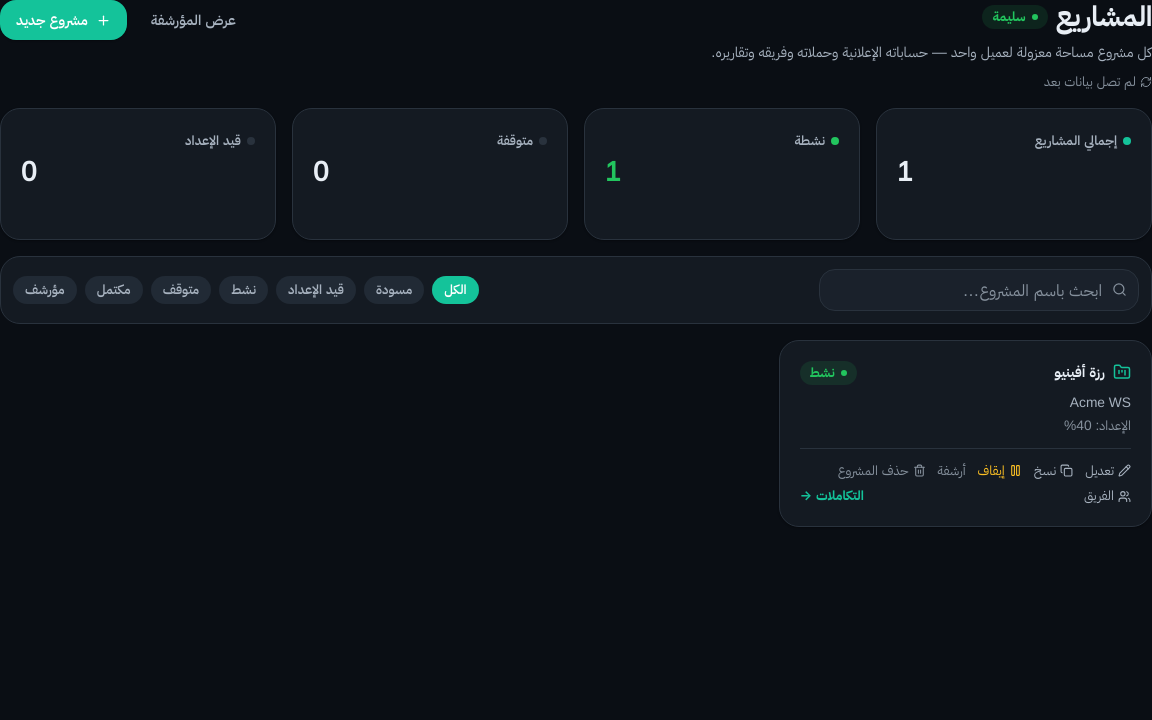
Test: deleting a project › promises that the advertising account and the authorisation survive
Click the button with test id "project-delete-p1": (882, 471) left=838, top=461, right=926, bottom=480
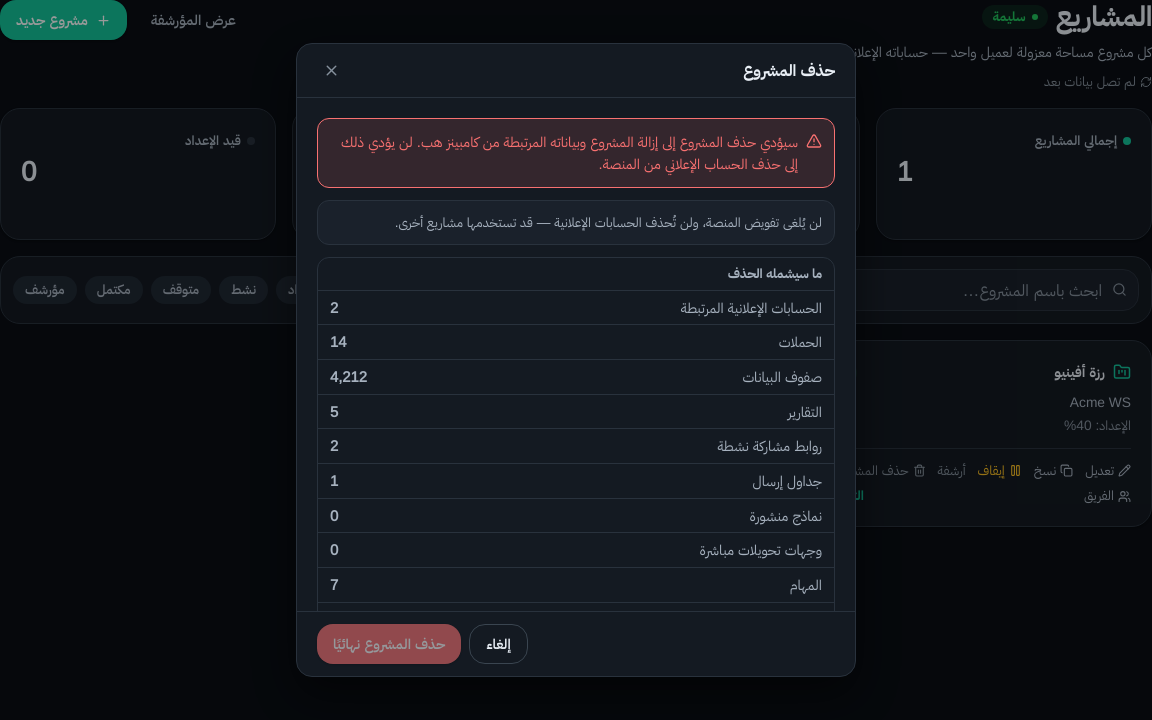
Now the text with test id "project-delete-keeps" is shown, box left=317, top=200, right=835, bottom=245
Now the text with test id "project-delete-keeps" shows "لن", box left=395, top=214, right=822, bottom=230
